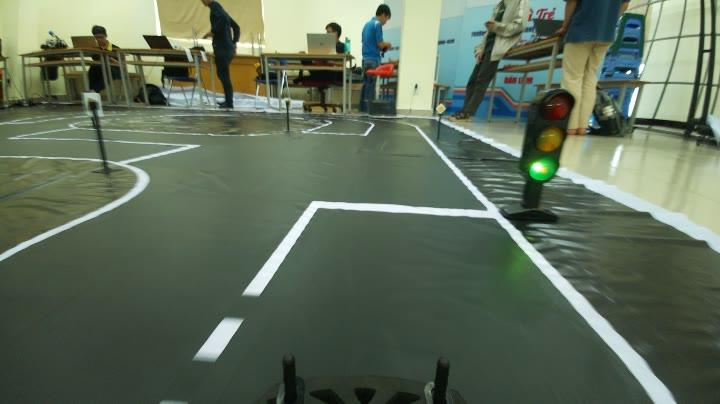trafficlight: (512, 87, 578, 188)
